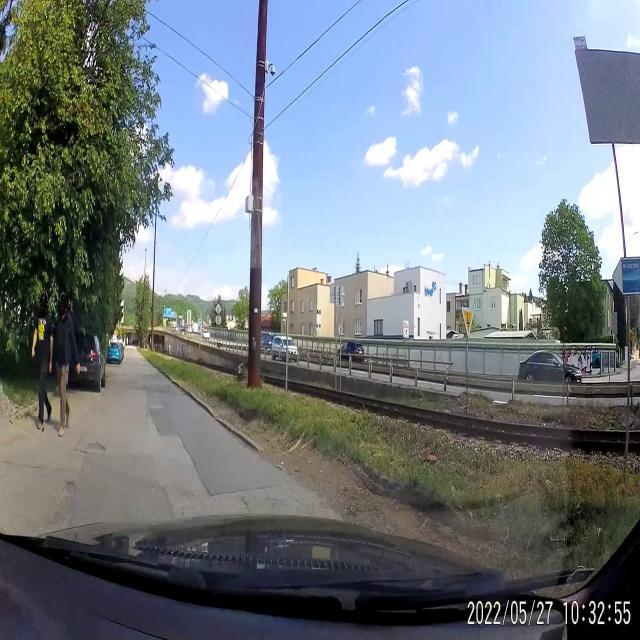Pothole: (62, 474, 80, 498), (86, 436, 107, 456)
